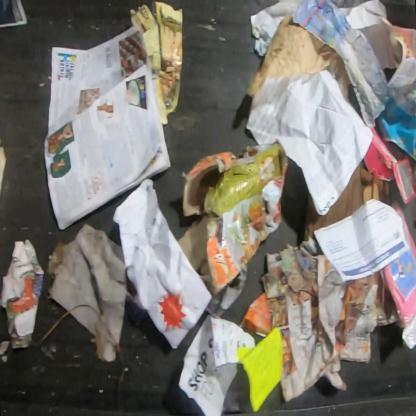cardboard: (176, 141, 288, 296), (305, 163, 391, 235), (364, 127, 416, 206), (372, 270, 393, 319)
soft_plastic: (379, 200, 415, 352)
